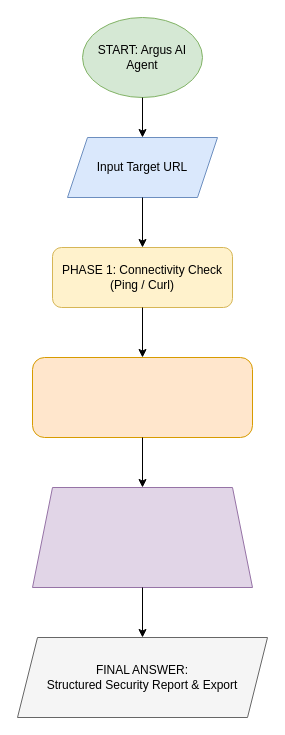
This 285x735 diagram has some shape labels left out. Here are the shapes that lost their labels. From the top down, the centre of each, then its label:
the point at 142,397: PHASE 2: Parallel Recon Suite (WAF, Fingerprint, Nmap, Spider)
the point at 142,537: PHASE 3: AI Security Analysis (Reasoning with WhiteRabbitNeo)
